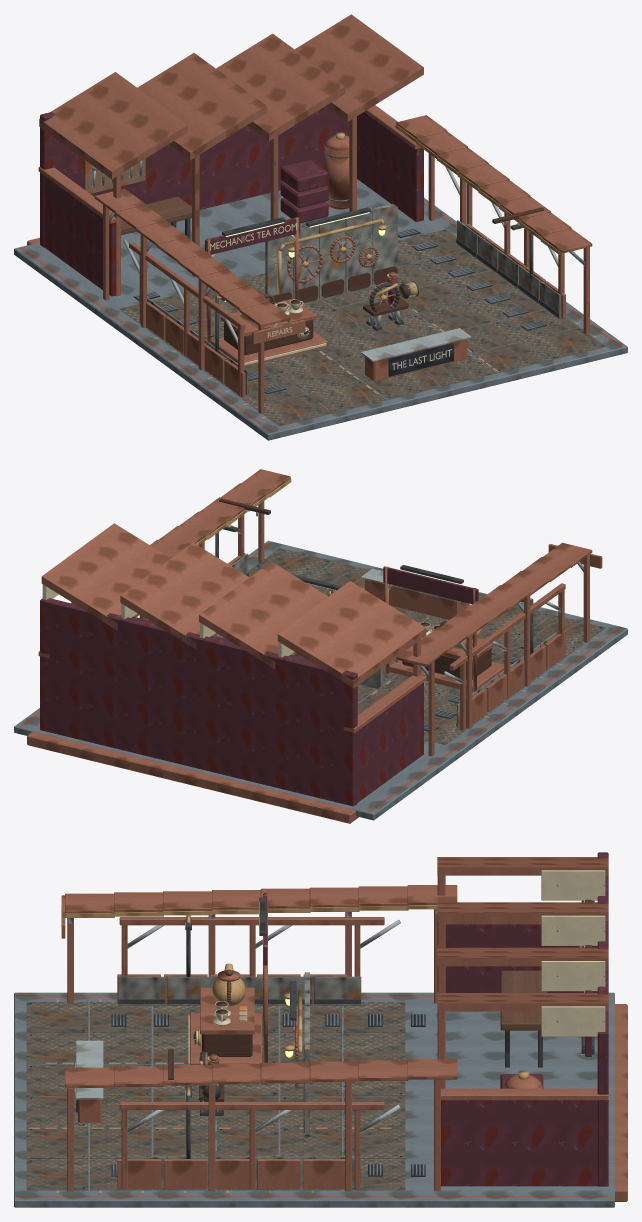
The model's file is beacon-far-wink-garage.glb.
3 views of the same model, one above another, from view 1: azimuth 30°, elevation 25°; view 2: azimuth 150°, elevation 25°; view 3: azimuth 270°, elevation 25° (orthographic). The views are drawn at different scales.
Parts seen in each view (by area): view 1: beacon-far-wink-garage, End of the Line Garage drive; view 2: beacon-far-wink-garage; view 3: beacon-far-wink-garage.
Boxes of the visible parts, <box> form: beacon-far-wink-garage: <box>14,14,627,440</box>; End of the Line Garage drive: <box>369,271,408,312</box>; beacon-far-wink-garage: <box>14,469,627,823</box>; beacon-far-wink-garage: <box>14,852,627,1207</box>.
Bounding box in the file's own units: 16.9 × 7.39 × 21.09.
Materials: 18 (16 with a texture image).
